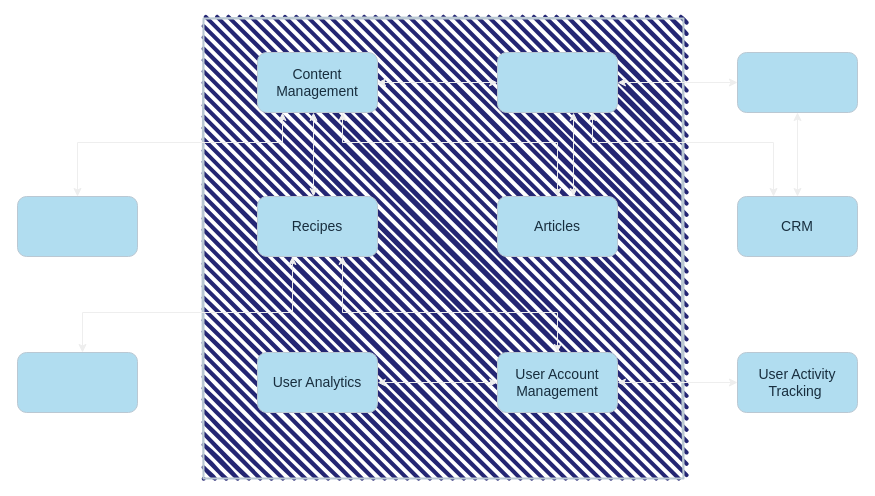
The diagram is 875 pixels wide and 496 high, and some of its shapes have lost their labels. The centre of each missing label's shape, as x and y in pixels:
E-Commerce: pixel 797 82
Recipe Comment Management: pixel 77 382
Staff Account Management: pixel 557 82
Video Hosting: pixel 77 226
